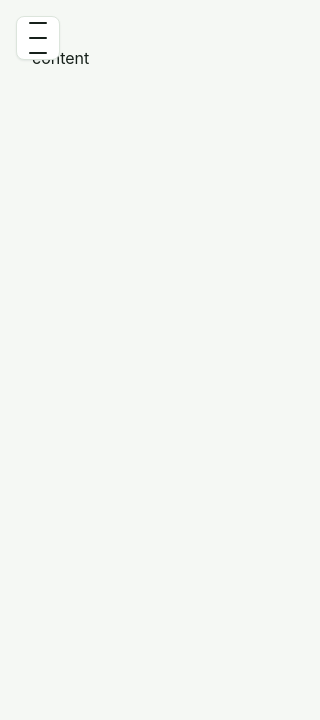
Scenario: PublicShell nav overlay responsive behavior › closes the mobile nav when a nav link is clicked
The width and height of the screenshot is (320, 720).
What coordinates should you click on to do the following:
click the button named "Show navigation"
I would click on:
 (38, 38)
Its box is [16,16,60,60].
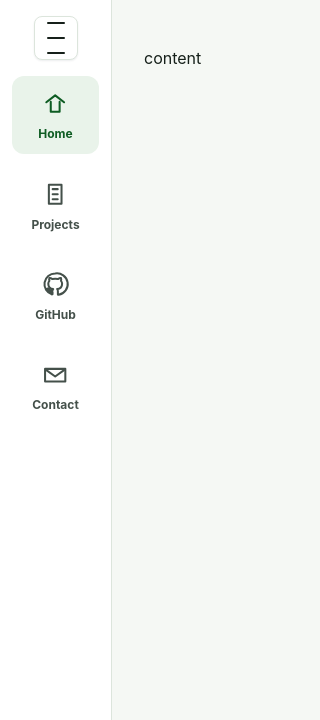
What coordinates should you click on to do the following:
click the link "Home"
I would click on:
 (56, 115)
Its box is [12,76,99,154].
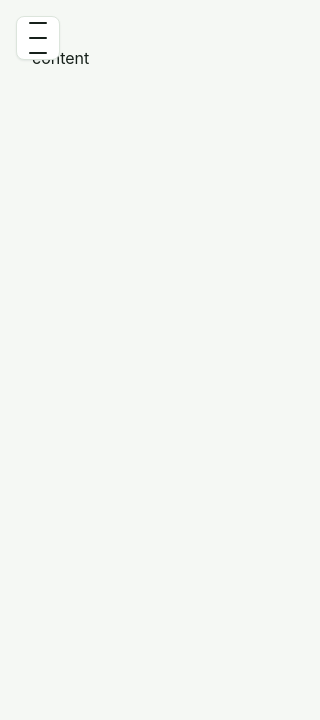
Check: the button named "Show navigation" is collapsed, box [16,16,60,60]
